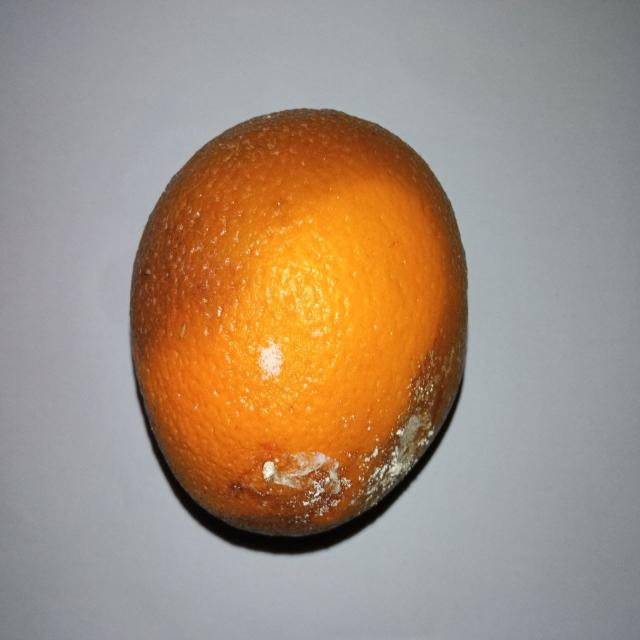rotten_orange: (128, 109, 466, 539)
